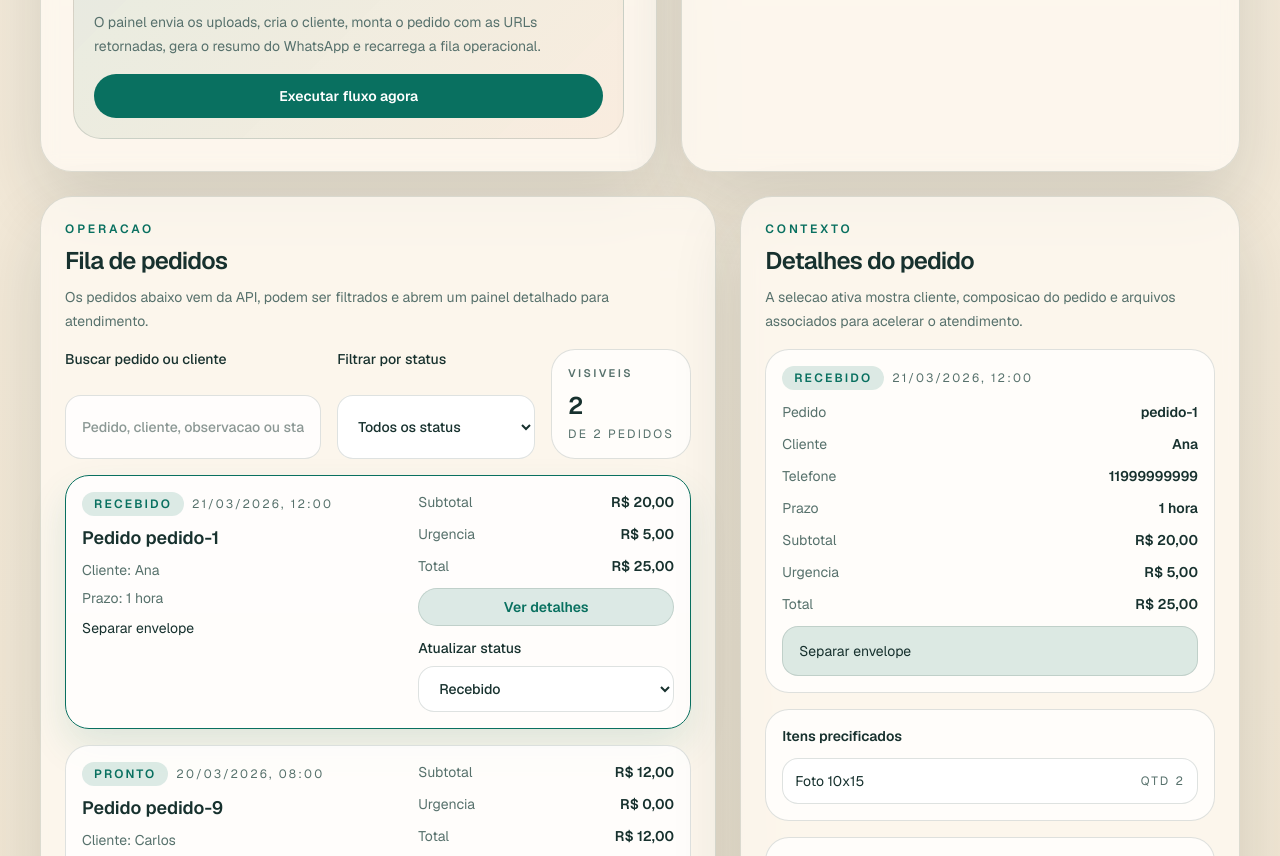
Scenario: Admin Home page › filters the queue and opens another pedido detail on demand
(page scrolled)
Expected: the heading "Pedido pedido-1" is shown, x1=82 y1=526 x2=219 y2=549
Type "Carlos" into the field labelled "Buscar pedido ou cliente".
click(193, 427); type("Carlos")  # box x1=65 y1=395 x2=321 y2=459
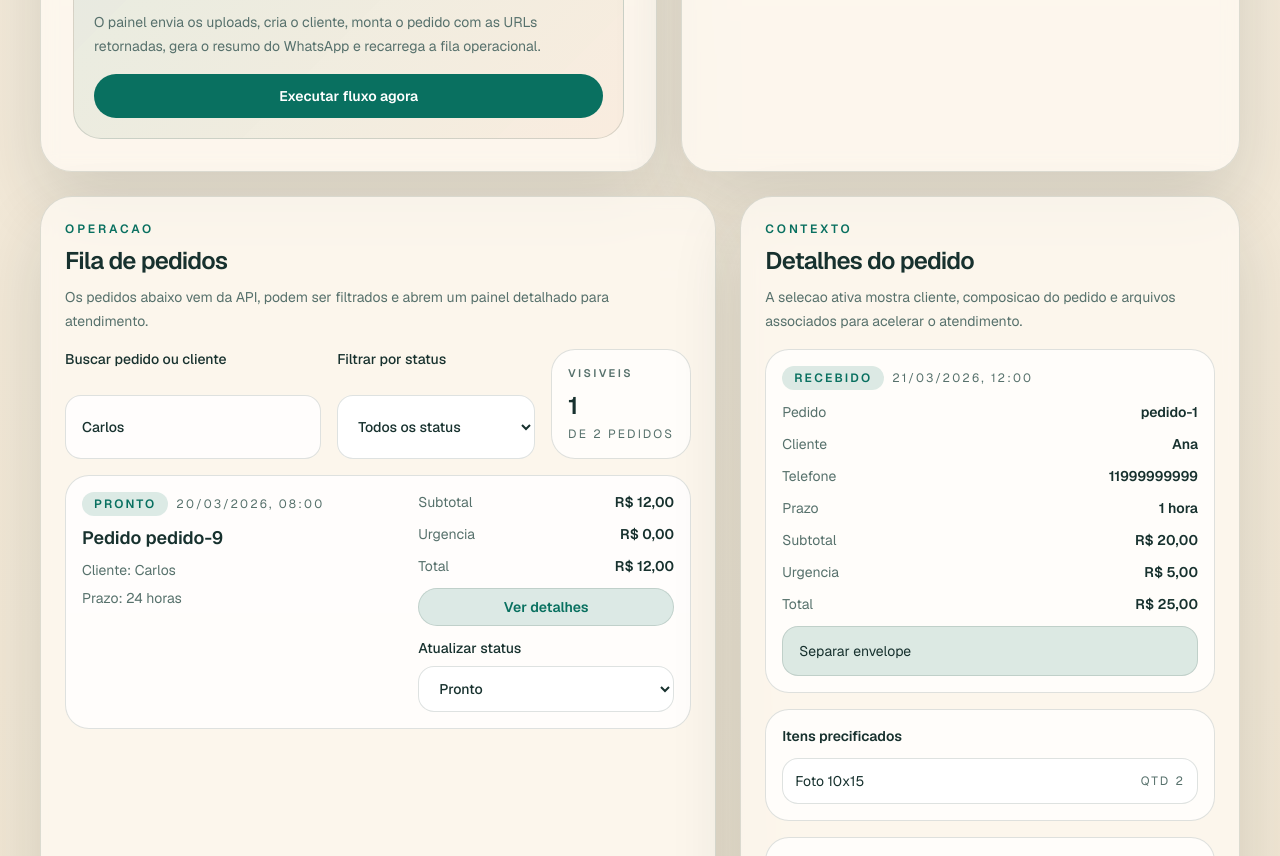
Expected: the heading "Pedido pedido-9" is shown, x1=82 y1=526 x2=223 y2=549
Click the button with aria-label "Ver detalhes do pedido pedido-9".
click(546, 607)  # box x1=418 y1=588 x2=674 y2=626
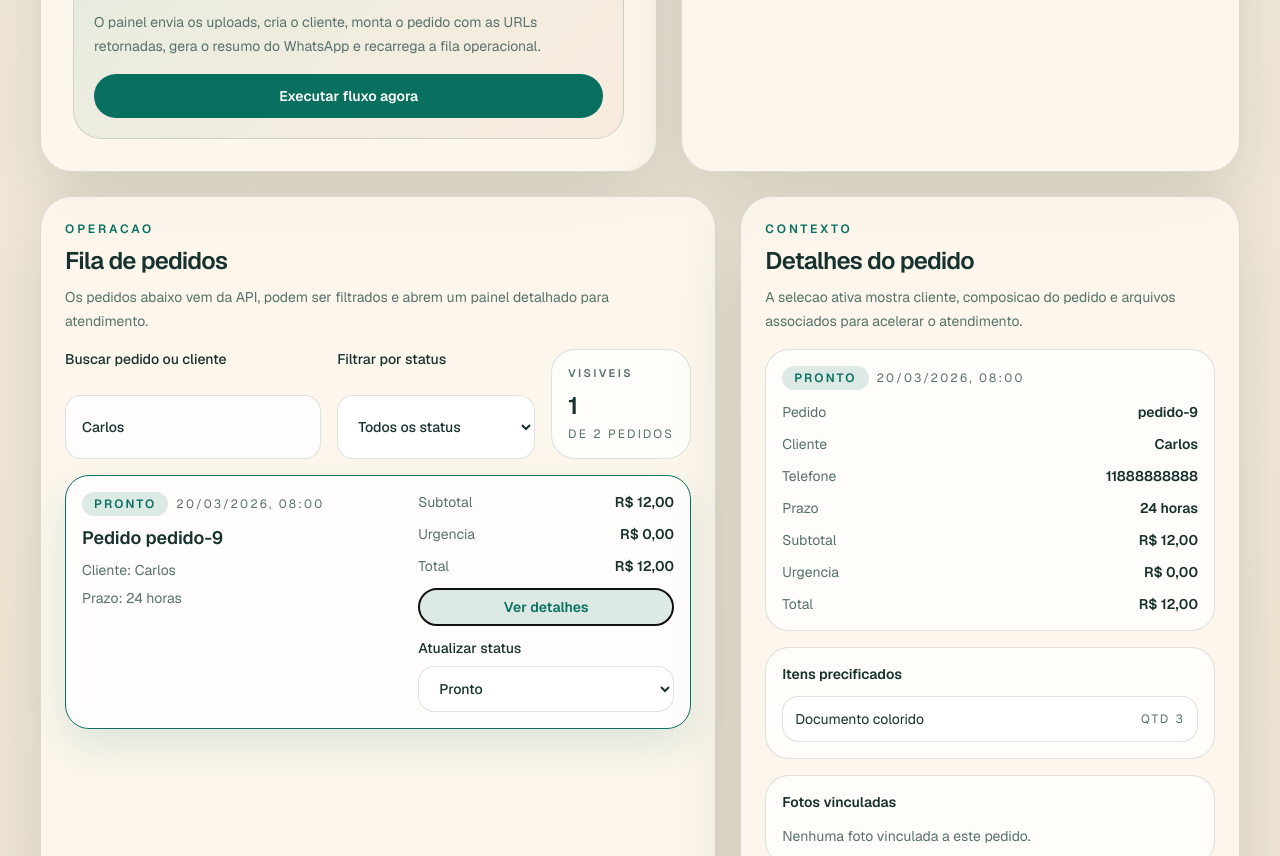
Result: the text "Carlos" is shown at x1=1154 y1=434 x2=1198 y2=454
